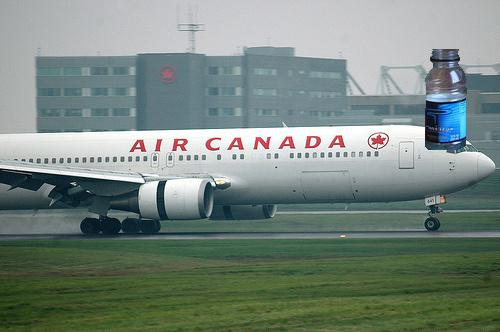tampered: (426, 50, 467, 150)
